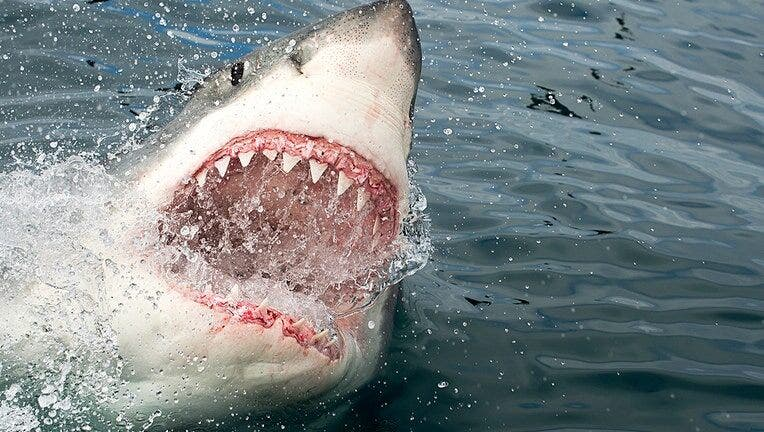Shark: (1, 3, 413, 414)
